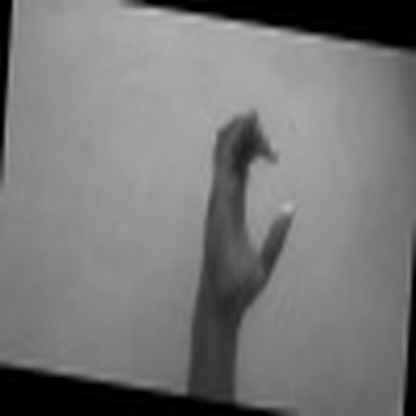c: (198, 104, 298, 305)
